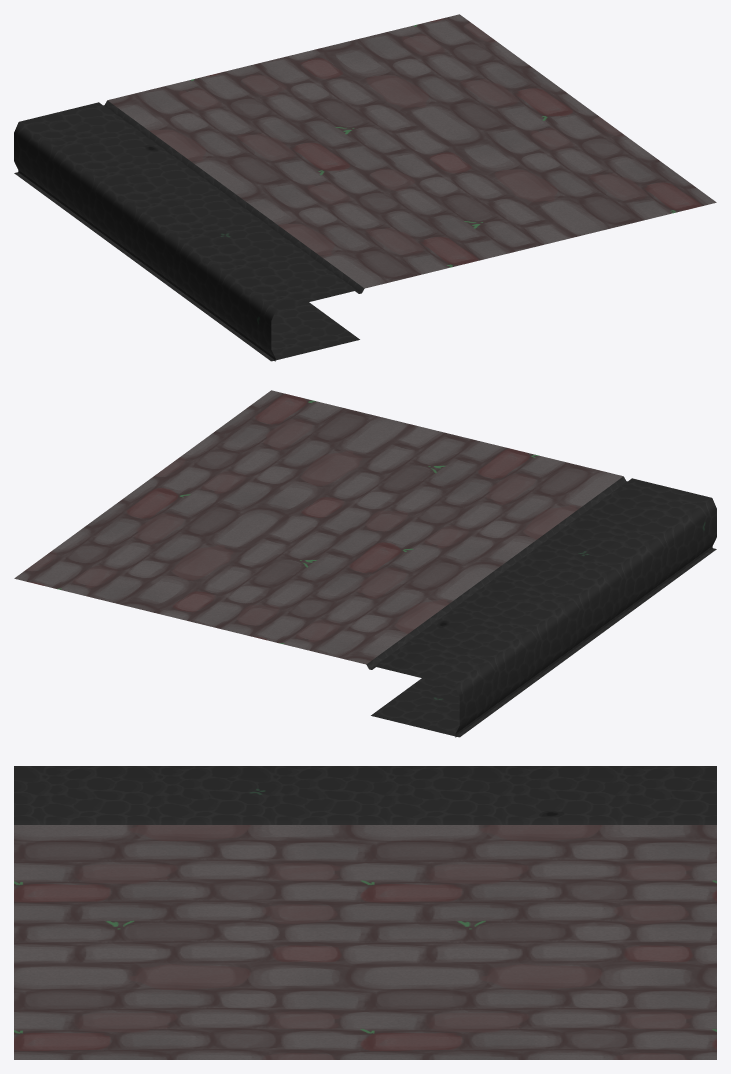
File: veredalado2.fbx
The picture shows the model from 3 angles, top to bottom: view 1: azimuth 30°, elevation 25°; view 2: azimuth 150°, elevation 25°; view 3: azimuth 270°, elevation 25°; orthographic projection. The views are drawn at different scales.
Parts seen in each view (by area): view 1: VeredaLado2; view 2: VeredaLado2; view 3: VeredaLado2.
Part boxes in pixels (x1,y1,x2,y2): VeredaLado2: (14, 14, 716, 361); VeredaLado2: (14, 390, 716, 737); VeredaLado2: (14, 766, 716, 1059).
Size of the model in its own units: 5 by 0.5506 by 5.
Materials: 3 (3 with a texture image).
